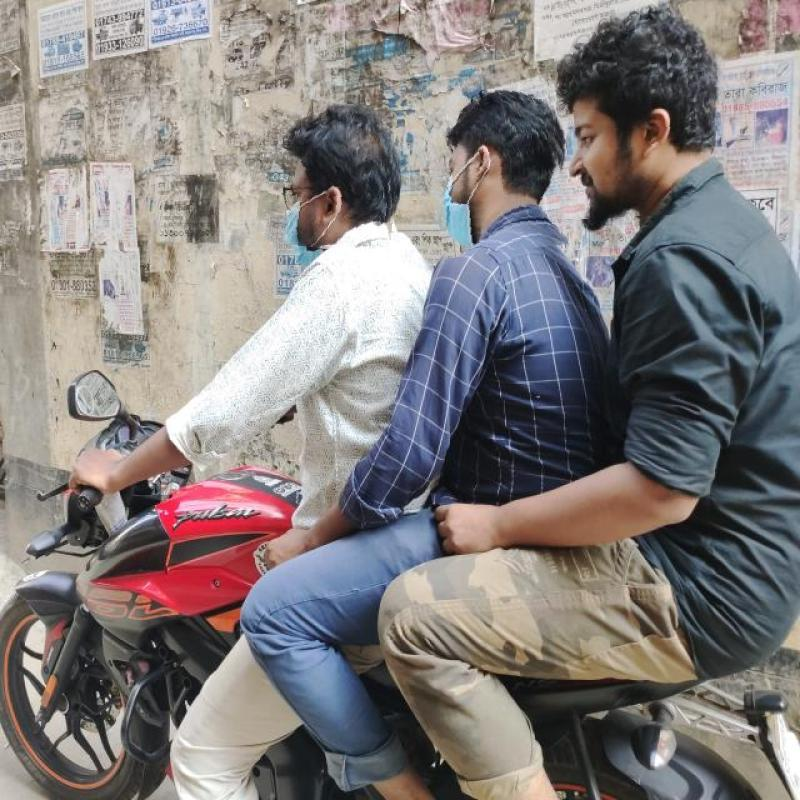nohelmet: (554, 0, 727, 218), (427, 70, 563, 255), (258, 98, 402, 253)
